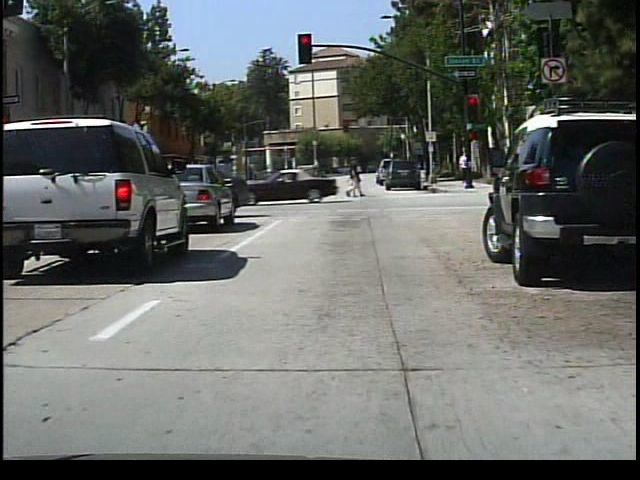person: (343, 159, 368, 200), (455, 149, 472, 189)
